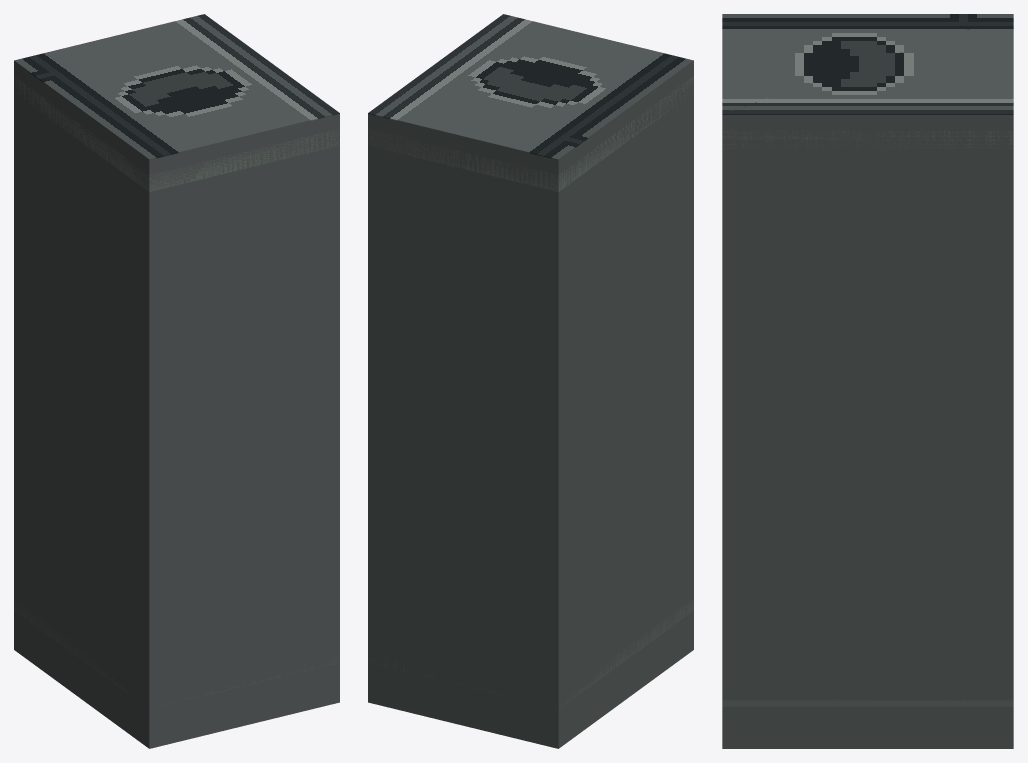
The model's file is CMU3DInteriorVehicleAPCFront5.glb.
3 renders of one model, left to right at view 1: azimuth 30°, elevation 25°; view 2: azimuth 150°, elevation 25°; view 3: azimuth 270°, elevation 25°, orthographic. The views are drawn at different scales.
Visible parts, largest first — view 1: cabin bulkhead, cabin bulkhead source finish, upper armor trim, lower armor trim; view 2: cabin bulkhead, cabin bulkhead source finish, upper armor trim, lower armor trim; view 3: cabin bulkhead, cabin bulkhead source finish, lower armor trim, upper armor trim.
Part boxes in pixels (x1=…): cabin bulkhead: x1=14, y1=61, x2=339, y2=748; cabin bulkhead source finish: x1=14, y1=14, x2=339, y2=160; upper armor trim: x1=14, y1=76, x2=339, y2=191; lower armor trim: x1=14, y1=599, x2=339, y2=709; cabin bulkhead: x1=368, y1=61, x2=693, y2=748; cabin bulkhead source finish: x1=368, y1=14, x2=693, y2=160; upper armor trim: x1=368, y1=76, x2=693, y2=191; lower armor trim: x1=368, y1=598, x2=693, y2=709; cabin bulkhead: x1=722, y1=115, x2=1013, y2=748; cabin bulkhead source finish: x1=722, y1=14, x2=1013, y2=114; lower armor trim: x1=722, y1=699, x2=1013, y2=706; upper armor trim: x1=723, y1=130, x2=1013, y2=149.
Bounding box in the file's own units: 0.8125 × 2.4 × 1.
4 materials, 1 textured.
